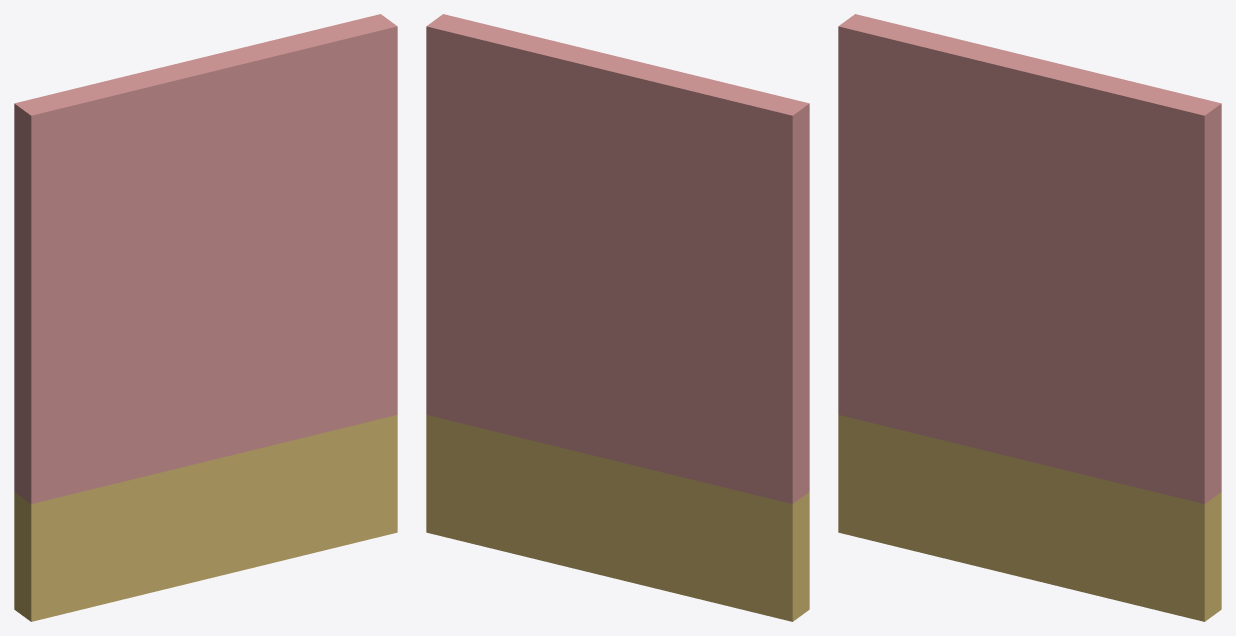
File: wall2.fbx
3 renders of one model, left to right at view 1: azimuth 30°, elevation 25°; view 2: azimuth 150°, elevation 25°; view 3: azimuth 330°, elevation 25°, orthographic.
Visible parts, largest first — view 1: wall2; view 2: wall2; view 3: wall2.
Part boxes in pixels (box(x1,y1,x2,y2)): wall2: box(14, 14, 397, 621); wall2: box(426, 14, 809, 621); wall2: box(838, 14, 1221, 621).
Bounding box in the file's own units: 211 × 279 × 16.89.
